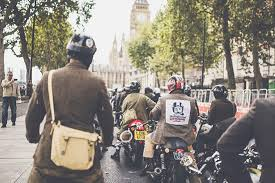helmet: (67, 31, 96, 68), (162, 74, 187, 93), (210, 82, 231, 102)
